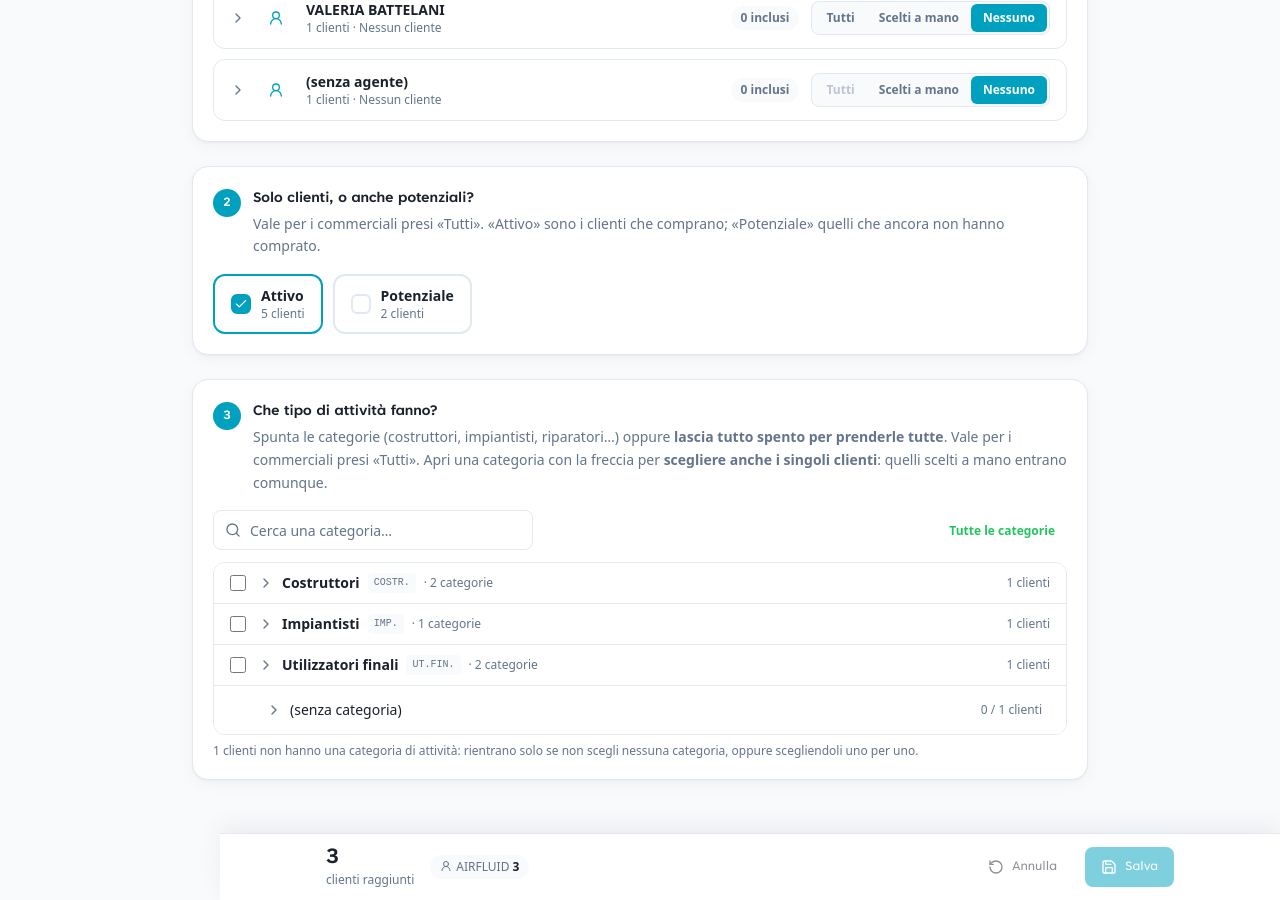
Scenario: pubblico: scegliere i singoli clienti dentro una categoria › aprendo una categoria si vedono i suoi clienti, di tutti i commerciali, col nome del commerciale
(page scrolled)
Click the button "Costruttori COSTR. · 2 categorie" at point(321, 583), box [258, 573, 994, 593]
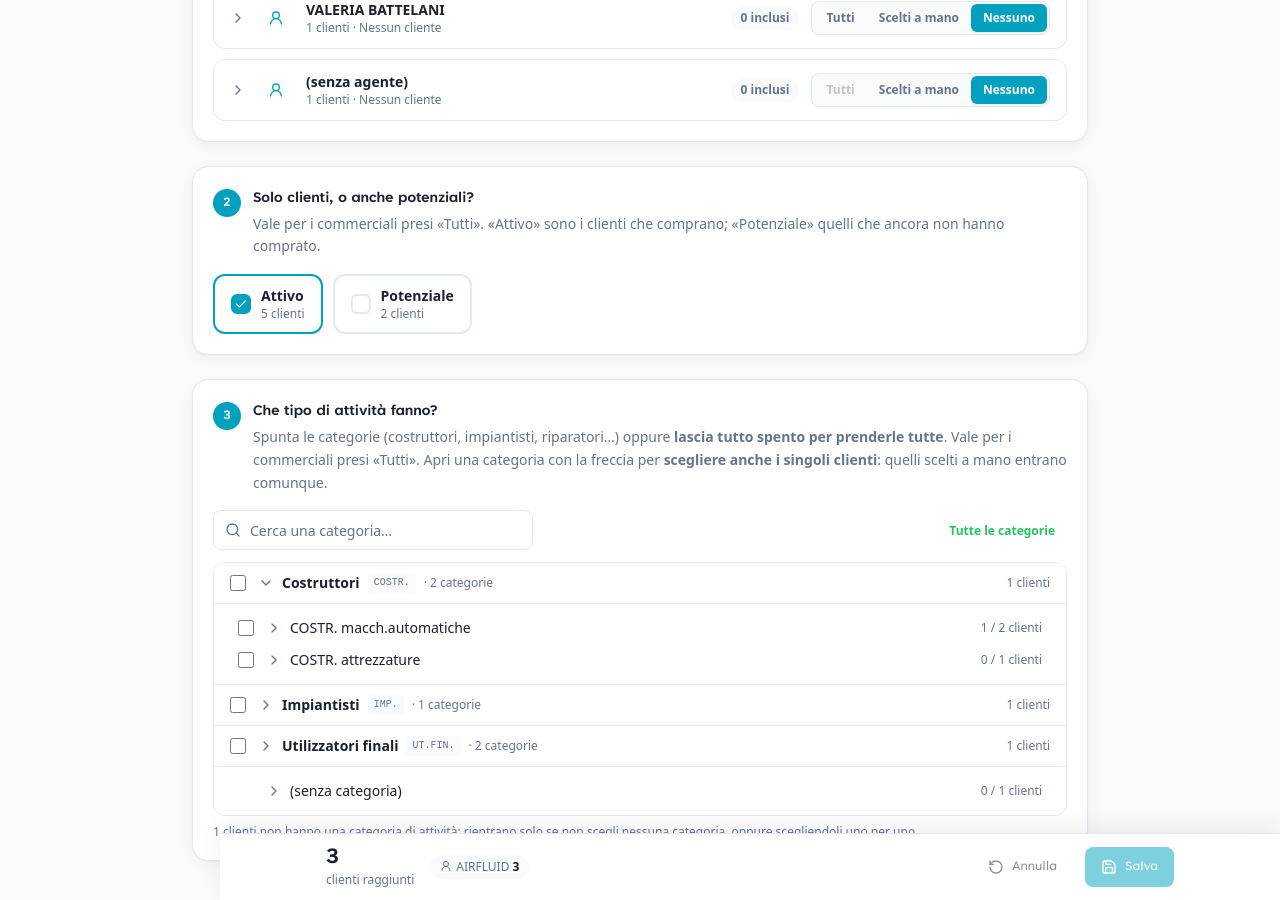
Click the button with aria-label "Clienti della categoria COSTR. attrezzature" at point(355, 660), box [266, 650, 969, 670]
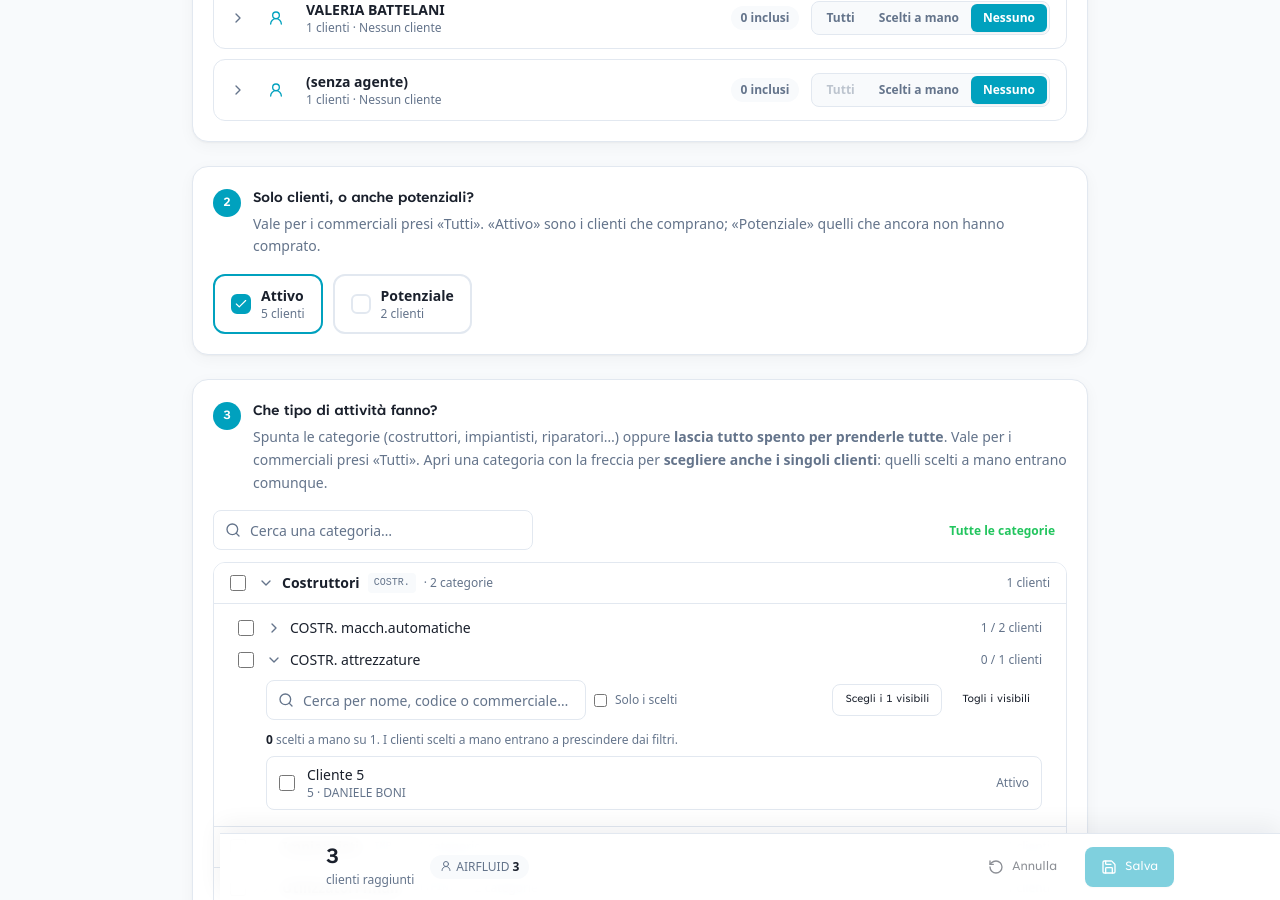
Check: the text "Cliente 5" is shown, box [307, 765, 364, 784]
Check: the text "5 · DANIELE BONI" is shown, box [307, 784, 406, 801]
